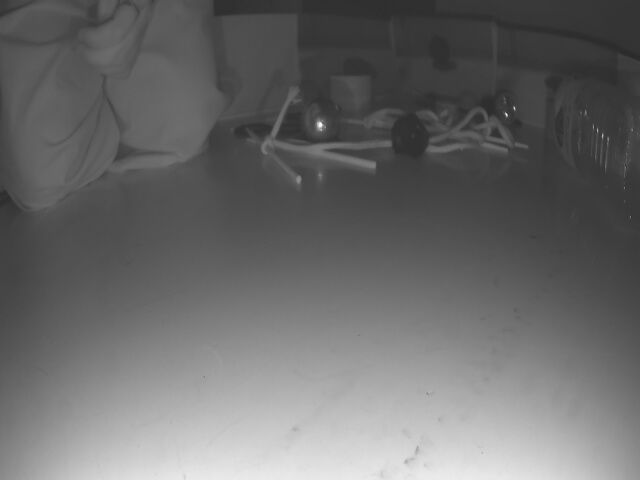Dead: (394, 113, 430, 157)
Live: (305, 99, 340, 140)
